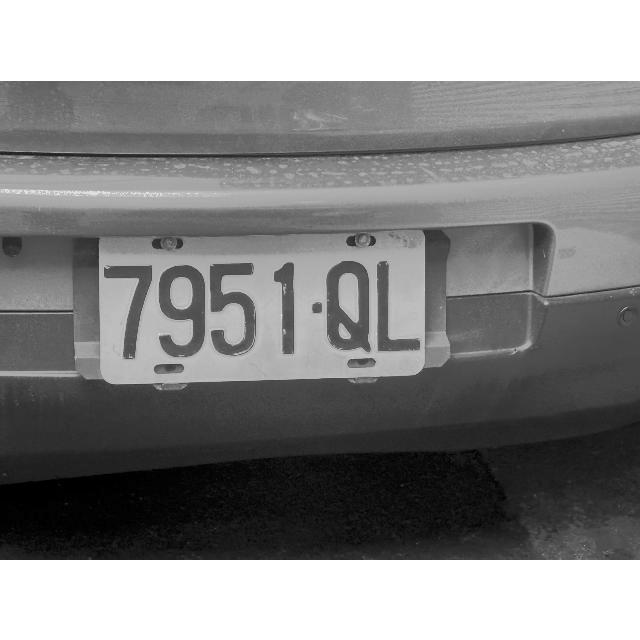-: (310, 297, 324, 321)
1: (266, 258, 308, 358)
5: (210, 262, 260, 360)
7: (104, 263, 154, 361)
9: (156, 262, 208, 360)
L: (375, 256, 421, 358)
Q: (325, 256, 375, 356)
